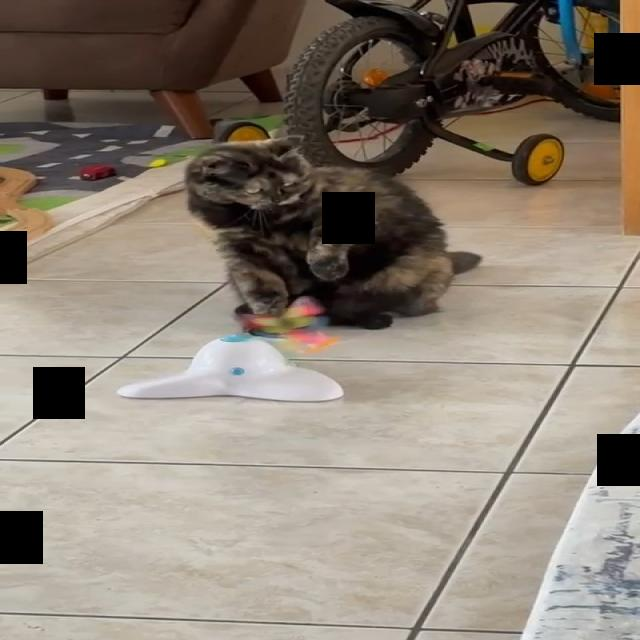authorized: (183, 135, 481, 330)
